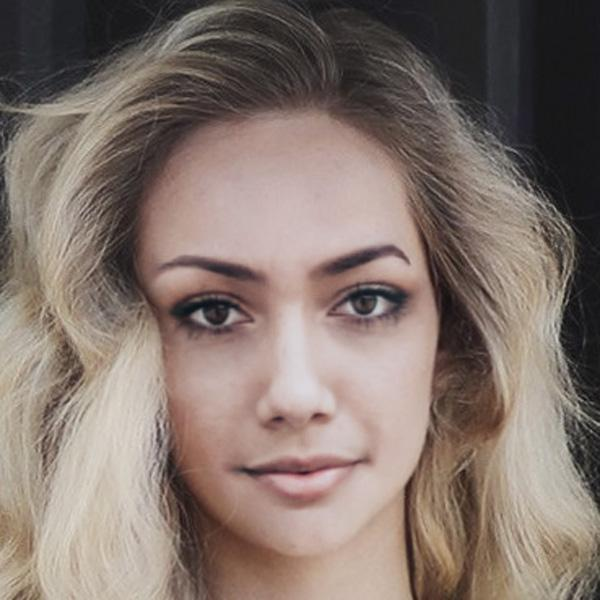Eyes: (158, 282, 261, 345), (316, 276, 416, 336)
